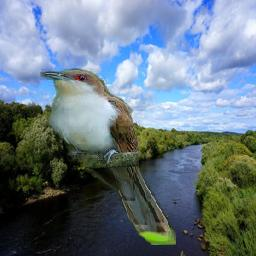Cuckoo: (40, 69, 176, 246)
